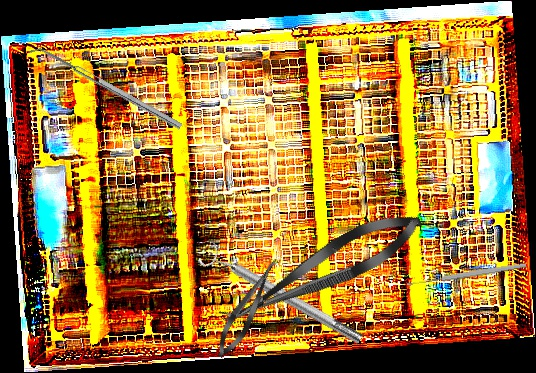Fixation Ring: (196, 237, 368, 354)
Micro Scissor: (213, 200, 430, 340), (209, 252, 287, 363)
Spatula Surgical: (28, 41, 183, 136)
Surgical Spoon: (406, 261, 527, 288)
